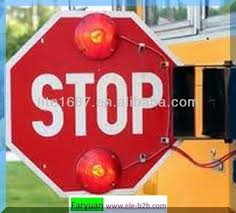Stop: (6, 9, 183, 194)
